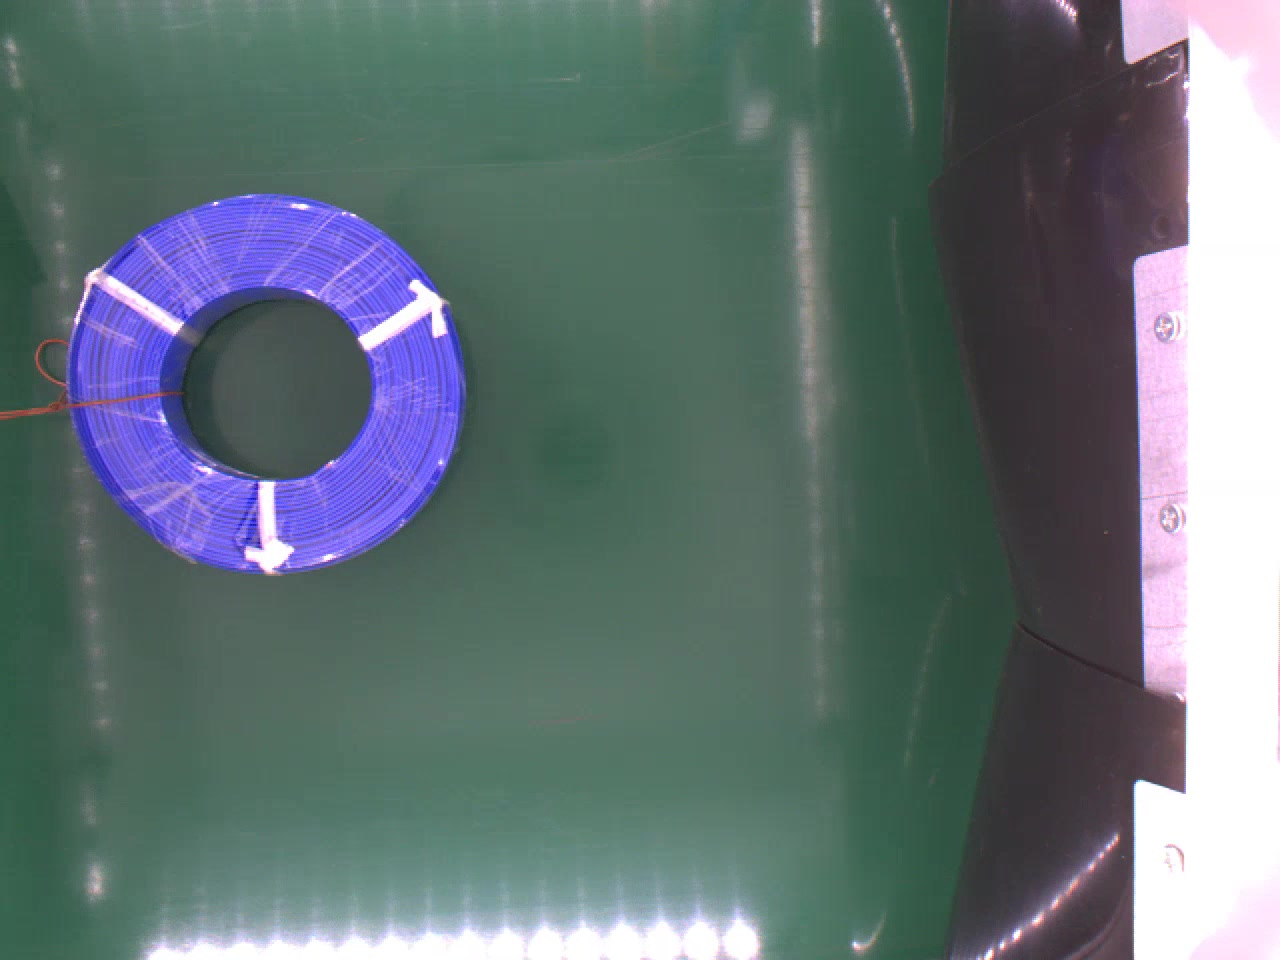blue: (60, 189, 456, 570)
